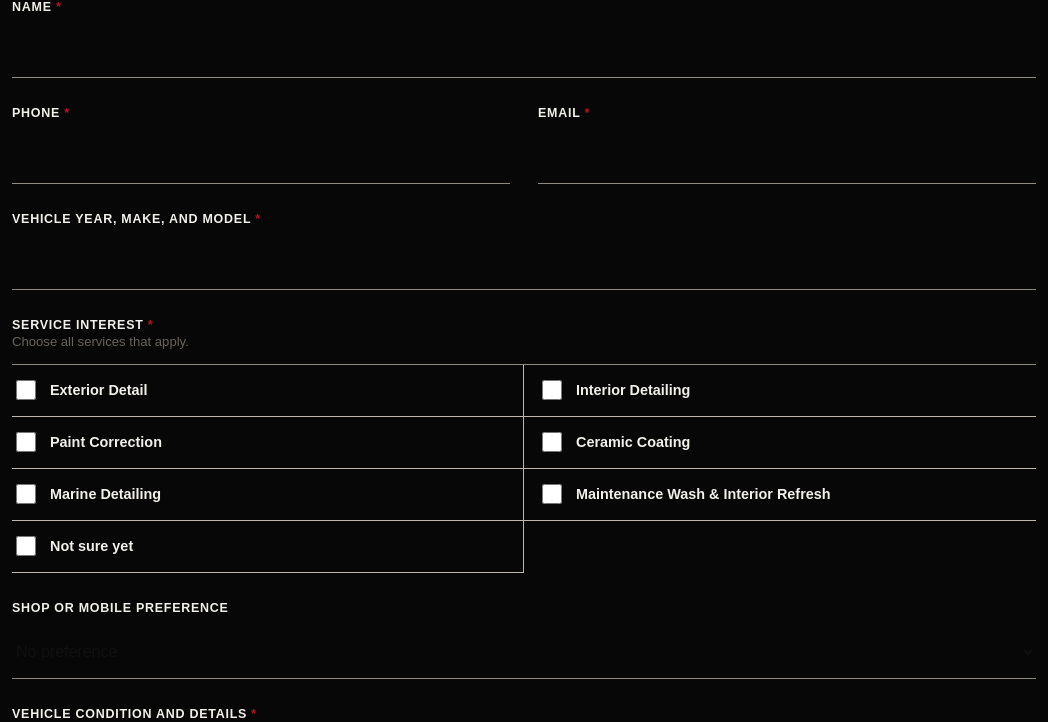
Scenario: ContactForm › requires a vehicle photo when Interior Detailing is selected
This screenshot has width=1048, height=722.
Step 1. Click the checkbox labelled "Exterior Detail" → click(26, 390), box left=16, top=380, right=36, bottom=400
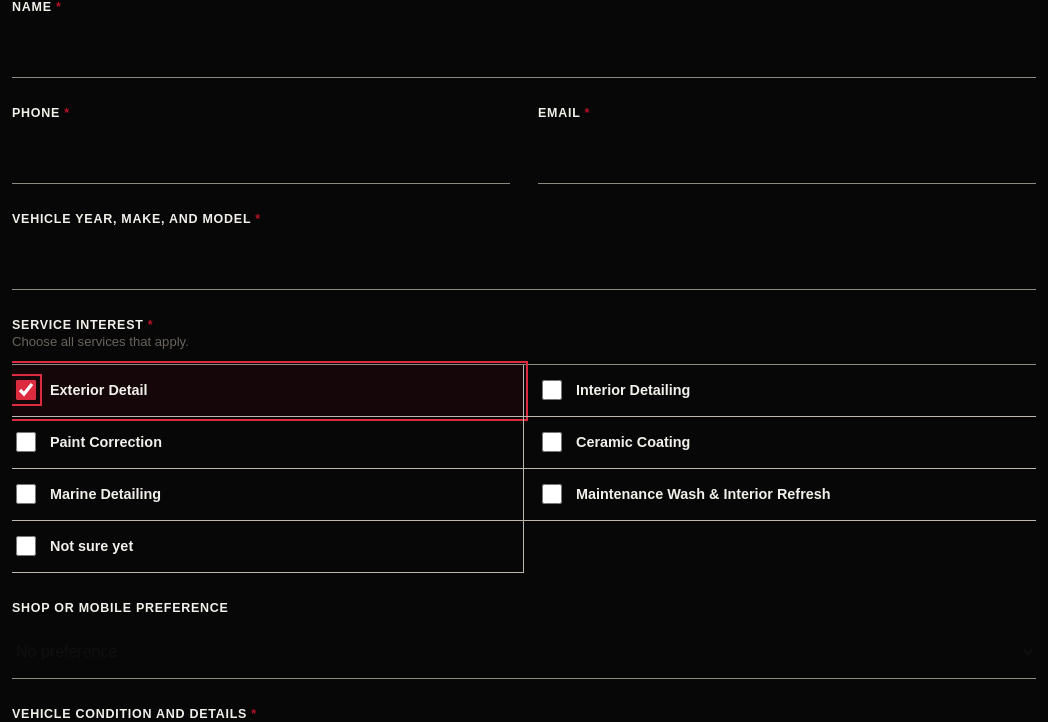
Step 2. Click the checkbox labelled "Interior Detailing" → click(552, 390), box left=542, top=380, right=562, bottom=400
(page scrolled)
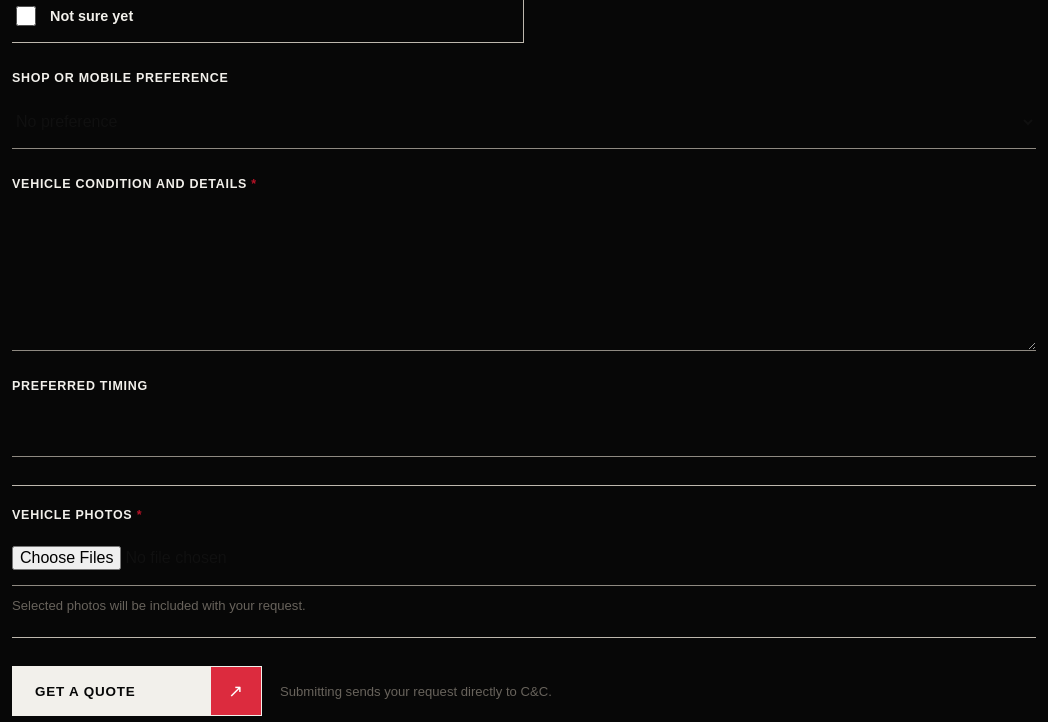
Expected: the text "*" next to "Vehicle photos" is shown, left=137, top=508, right=142, bottom=522
Step 3. Click the button "Get a quote" → click(137, 691), box left=12, top=666, right=262, bottom=716
(page scrolled)
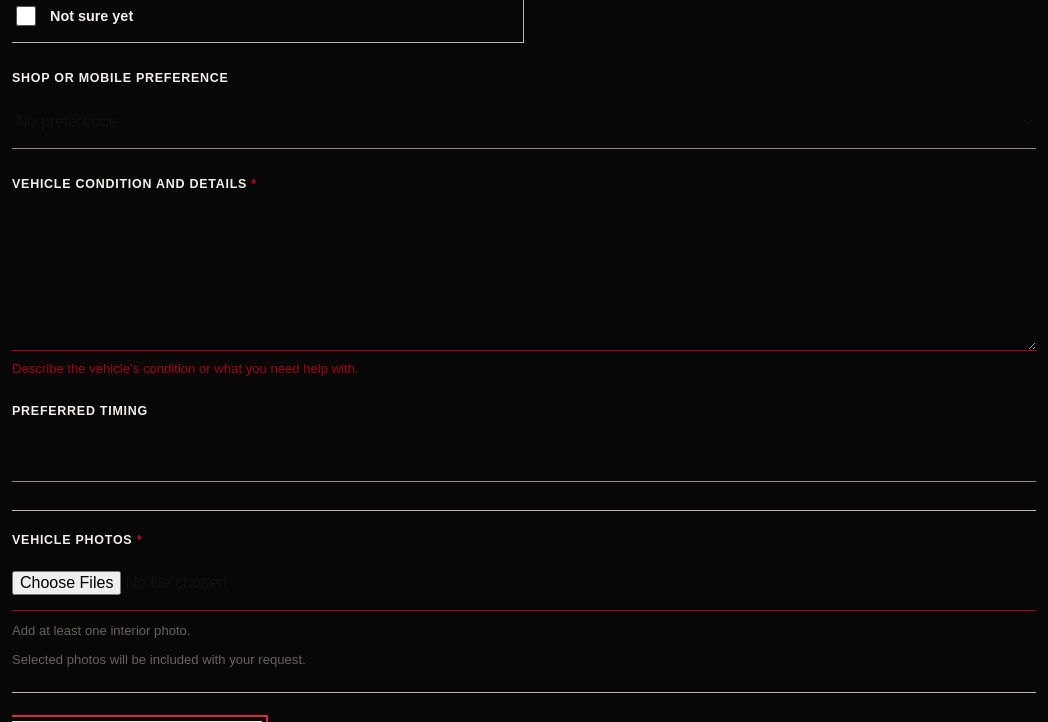
Expected: the text "Add at least one interior photo." is shown, left=12, top=623, right=191, bottom=638
